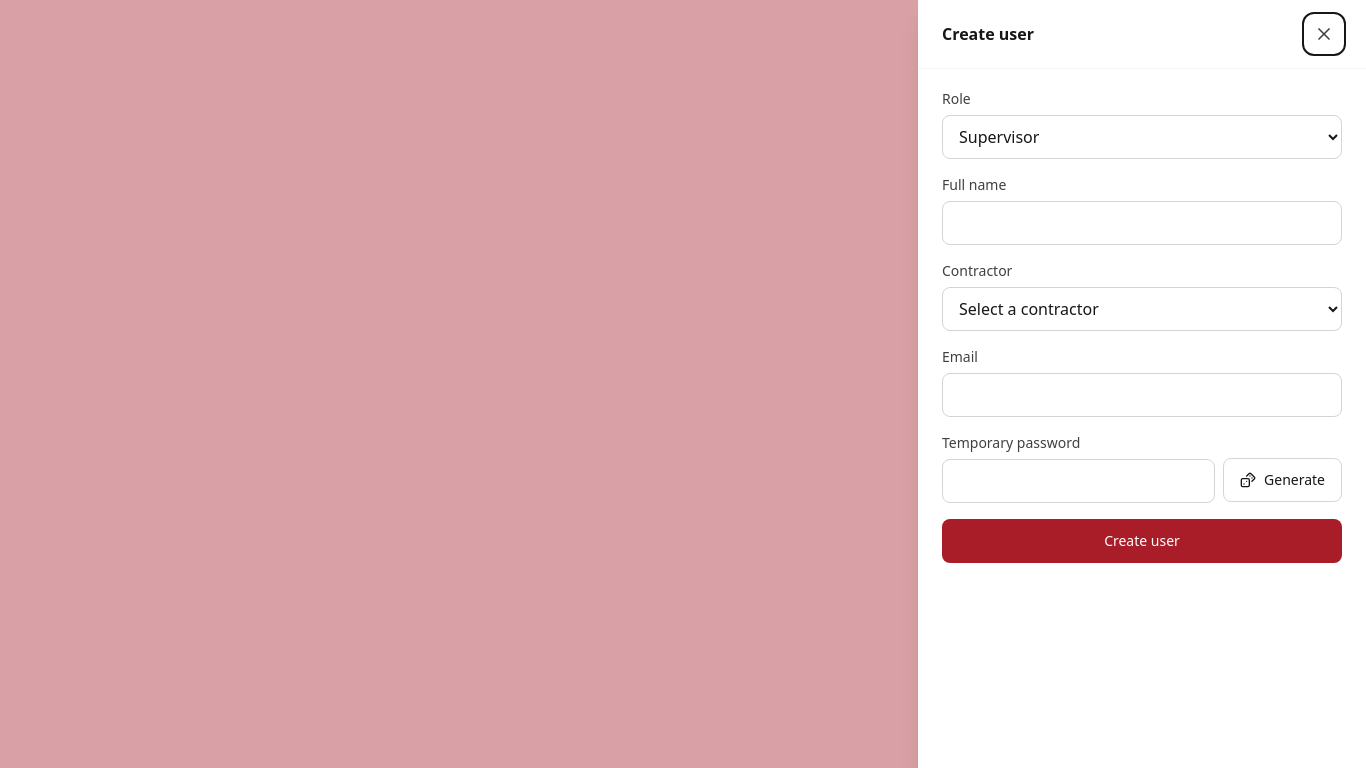
Create user: driver and security get a PIN card › asks only for name, contact number (optional) and contractor; no password
Select "Driver" in the dropdown labelled "Role" at (1142, 137), box [942,115,1342,159]
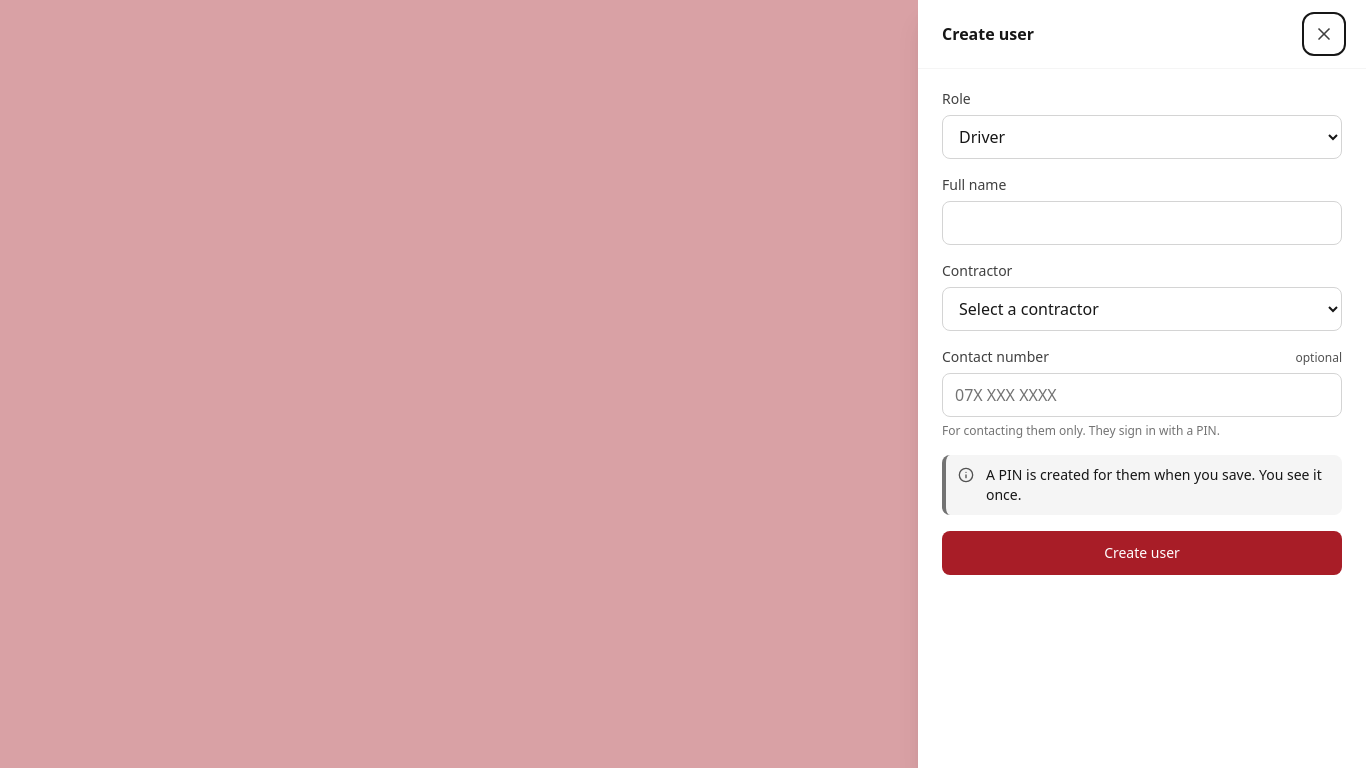
Expected: the field labelled "Contact number optional" is shown, [942,373,1342,417]
Now the text labelled "password" is gone
Now the text labelled "Email" is gone
